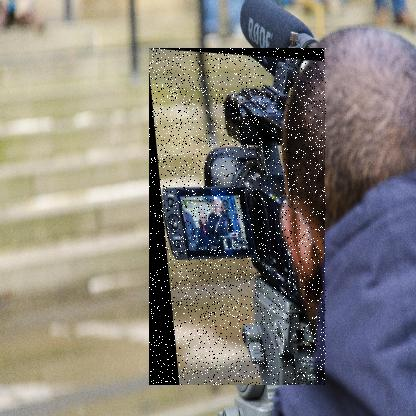Camera: (151, 49, 329, 387)
